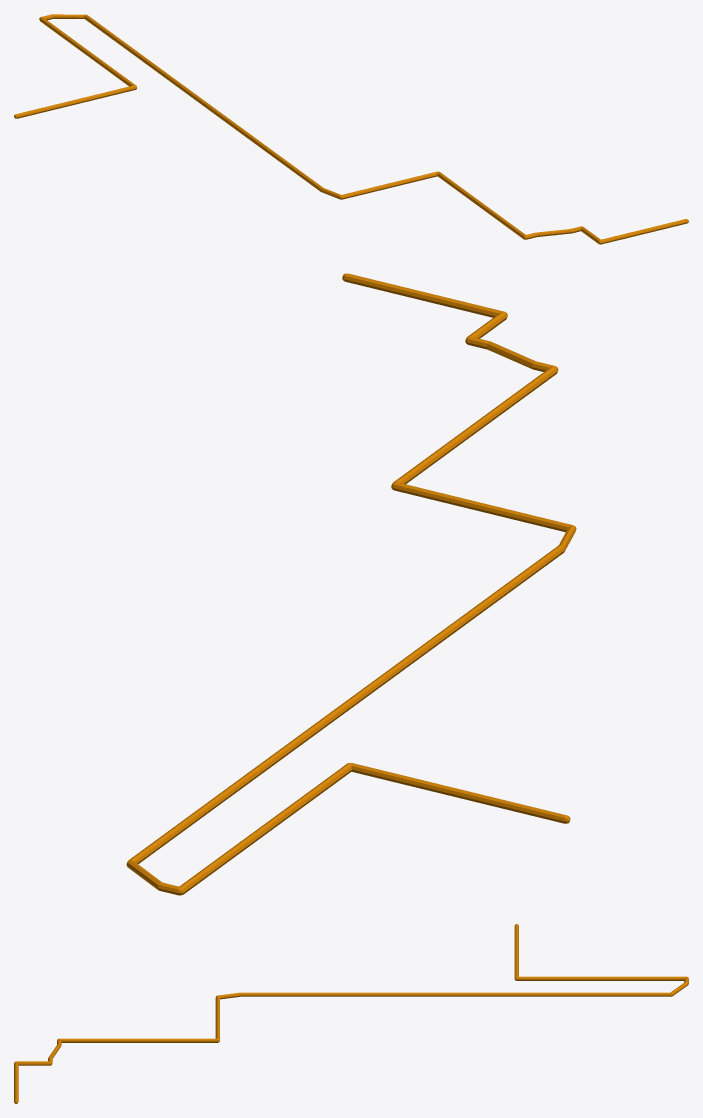
3 renders of one model, top to bottom at view 1: azimuth 30°, elevation 25°; view 2: azimuth 150°, elevation 25°; view 3: azimuth 270°, elevation 25°, orthographic. The views are drawn at different scales.
Bounding box in the file's own units: 1855 × 20 × 2979.
